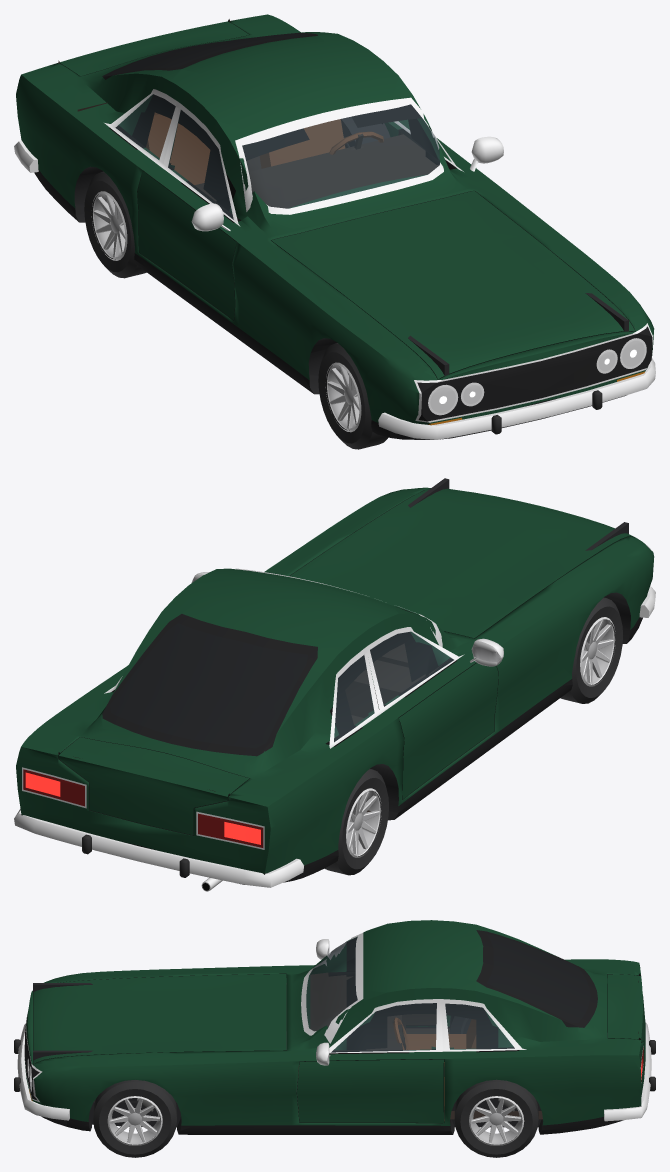
File: gt-coupe.glb
3 renders of one model, top to bottom at view 1: azimuth 30°, elevation 25°; view 2: azimuth 150°, elevation 25°; view 3: azimuth 270°, elevation 25°, orthographic. The views are drawn at different scales.
Visible parts, largest first — view 1: body, bonnet_body, glass_windshield, interior, door_R_body, bumpers, door_R_glass_side_R, wheel_FR_mesh, wheel_RR_mesh, boot_body, glass_side_R, mirror_L (+2 smaller); view 2: body, bonnet_body, boot_body, door_R_body, bumpers, door_R_glass_side_R, wheel_RR_mesh, wheel_FR_mesh, glass_side_R, interior, mirror_R, bays; view 3: body, bonnet_body, door_L_body, wheel_FL_mesh, wheel_RL_mesh, door_L_glass_side_L, glass_windshield, interior, glass_side_L, bumpers, boot_body, bays (+1 smaller).
Part boxes in pixels (box(x1,y1,x2,y2)): body: box(16, 14, 654, 439); bonnet_body: box(271, 190, 635, 379); glass_windshield: box(235, 97, 443, 214); interior: box(77, 102, 439, 213); door_R_body: box(137, 165, 240, 320); bumpers: box(14, 140, 655, 439); door_R_glass_side_R: box(158, 101, 240, 226); wheel_FR_mesh: box(318, 343, 388, 449); wheel_RR_mesh: box(84, 171, 146, 278); boot_body: box(58, 19, 249, 76); glass_side_R: box(104, 89, 178, 164); mirror_L: box(470, 136, 503, 171); body: box(16, 487, 654, 884); bonnet_body: box(288, 488, 632, 638); boot_body: box(58, 737, 249, 835); door_R_body: box(378, 658, 498, 799); bumpers: box(14, 586, 655, 887); door_R_glass_side_R: box(363, 627, 464, 711); wheel_RR_mesh: box(324, 769, 388, 875); wheel_FR_mesh: box(560, 597, 622, 703); glass_side_R: box(329, 649, 383, 748); interior: box(345, 643, 425, 812); mirror_R: box(470, 638, 503, 666); bays: box(408, 478, 628, 550); body: box(24, 920, 645, 1134); bonnet_body: box(33, 974, 286, 1064); door_L_body: box(297, 1049, 443, 1123); wheel_FL_mesh: box(93, 1080, 177, 1157); wheel_RL_mesh: box(454, 1079, 538, 1157); door_L_glass_side_L: box(329, 999, 444, 1053); glass_windshield: box(301, 933, 363, 1043); interior: box(298, 972, 542, 1120); glass_side_L: box(441, 999, 526, 1051); bumpers: box(14, 1022, 655, 1121); boot_body: box(607, 973, 645, 1060); bays: box(33, 983, 607, 1105).
Bounding box in the file's own units: 2 × 1.3 × 4.65.
